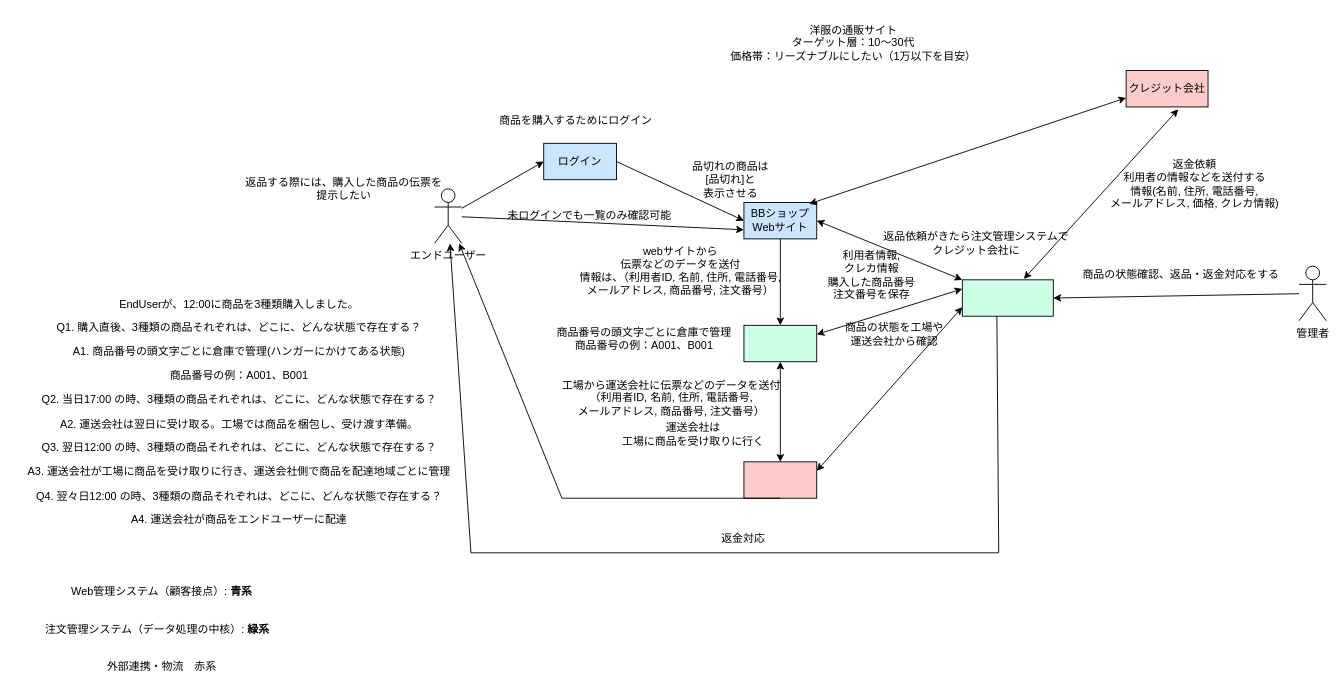
The diagram is 1344 pixels wide and 695 high, and some of its shapes have lost their labels. Each missing label, with the centre of its shape:
"BBショップ 注文管理システム" goes at point 1007,297.
"工場" goes at point 780,343.
"運送会社" goes at point 780,479.
